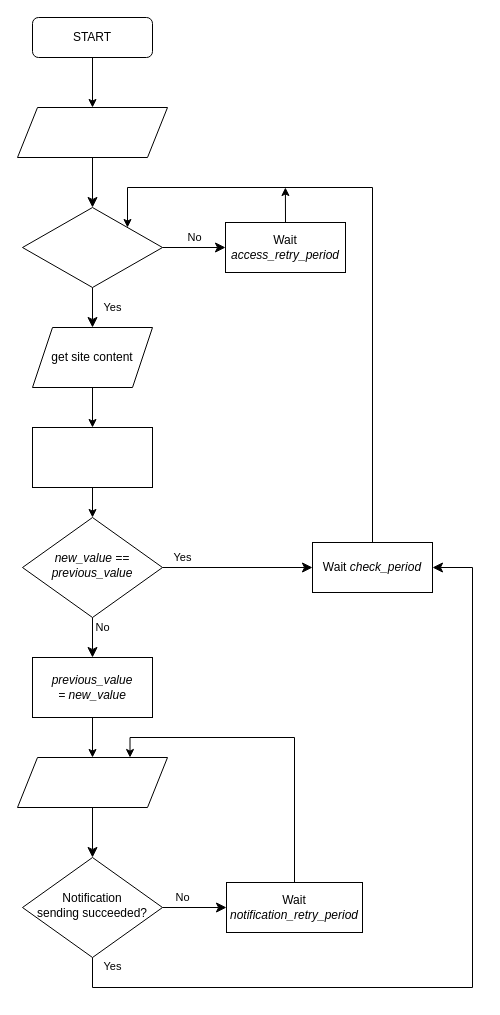
Image size: 500x1015. Some labels were removed from this diagram. The centre of each missing label's shape, as x and y in pixels:
extract new_value: the point at 92,457
Load last _value and other settings from file: the point at 92,132
Send notification: the point at 92,782
Server and file is reachable?: the point at 92,247
